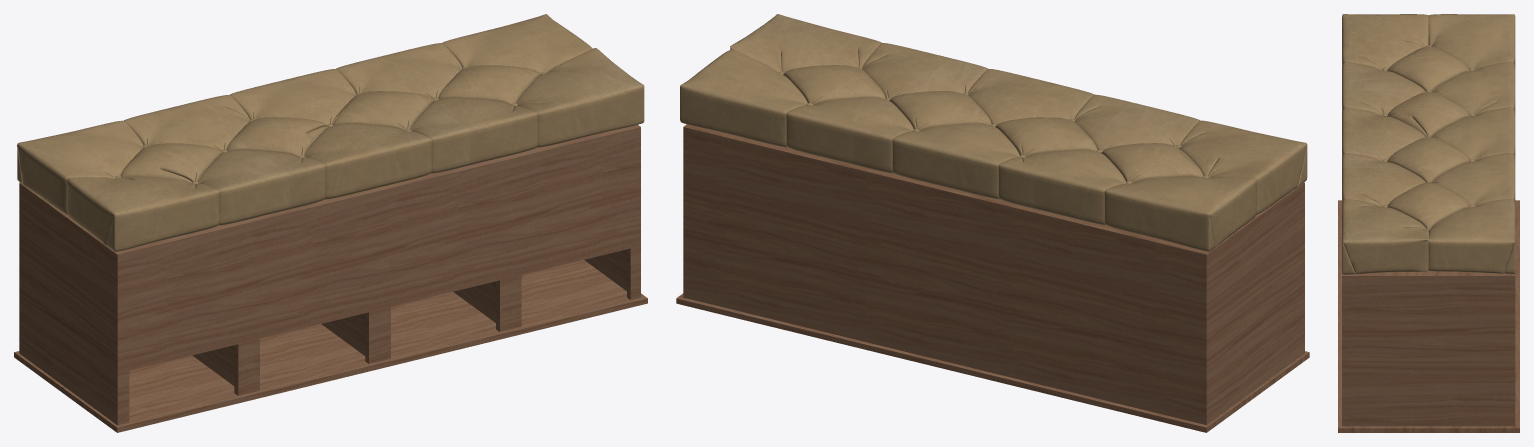
The model's file is 004_Baul_Da_Vinci_Madera.glb.
3 renders of one model, left to right at view 1: azimuth 30°, elevation 25°; view 2: azimuth 150°, elevation 25°; view 3: azimuth 270°, elevation 25°, orthographic. The views are drawn at different scales.
Visible parts, largest first — view 1: Box003; view 2: Box003; view 3: Box003.
Part boxes in pixels (box(x1,y1,x2,y2)): Box003: box(14, 14, 647, 432); Box003: box(676, 14, 1309, 432); Box003: box(1338, 14, 1519, 432).
Size of the model in its own units: 1.4 by 0.5521 by 0.4719.
Materials: 2 (2 with a texture image).
